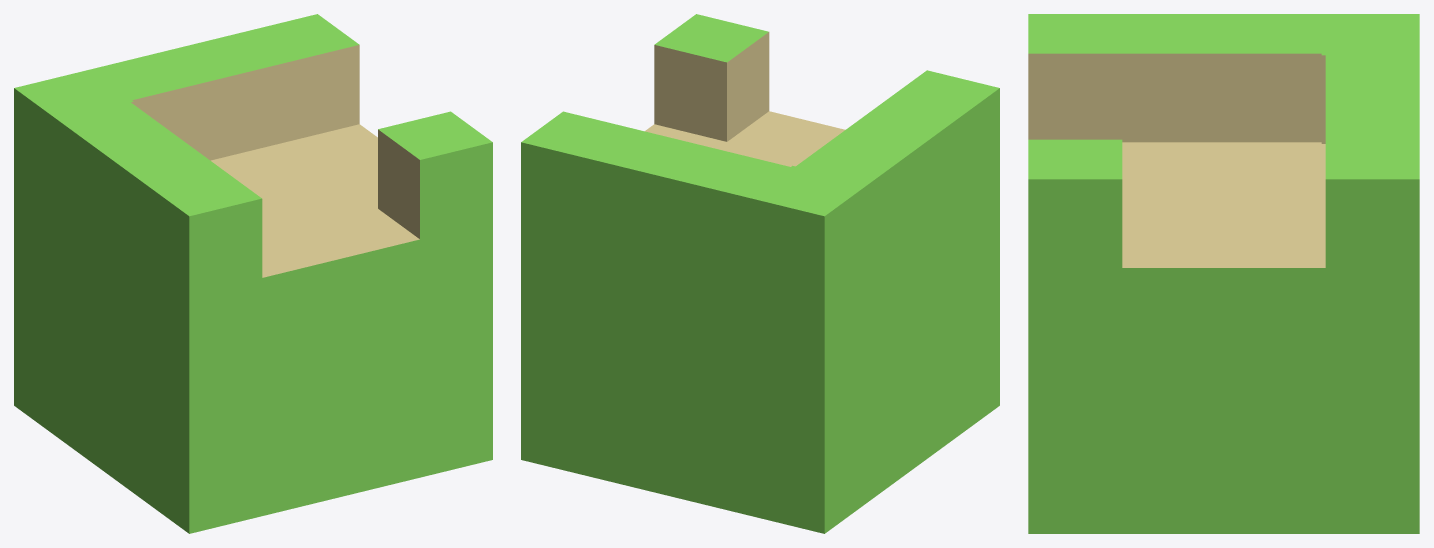
Rendered from path-corner-front-right.glb.
3 renders of one model, left to right at view 1: azimuth 30°, elevation 25°; view 2: azimuth 150°, elevation 25°; view 3: azimuth 270°, elevation 25°, orthographic. The views are drawn at different scales.
Parts seen in each view (by area): view 1: path-corner-front-right; view 2: path-corner-front-right; view 3: path-corner-front-right.
Boxes of the visible parts, x1,y1,x2,y2 form: path-corner-front-right: (14,14,492,533); path-corner-front-right: (521,14,999,533); path-corner-front-right: (1028,14,1419,533).
Bounding box in the file's own units: 2 × 2 × 2.
